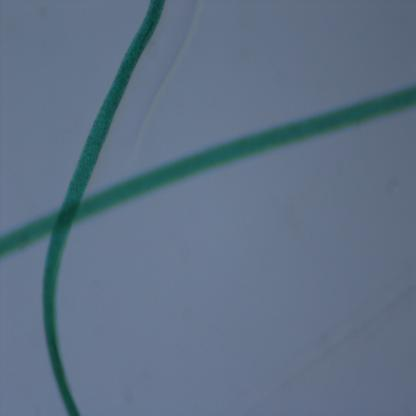Microfibre: (0, 86, 416, 260), (41, 0, 166, 415)
